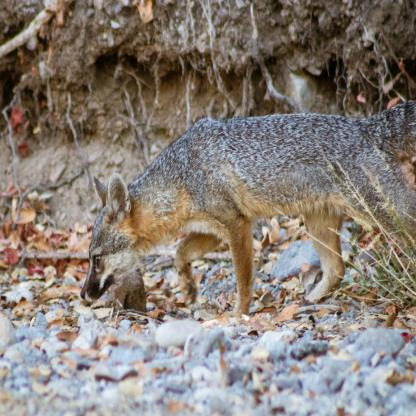zorro: (80, 99, 416, 335)
